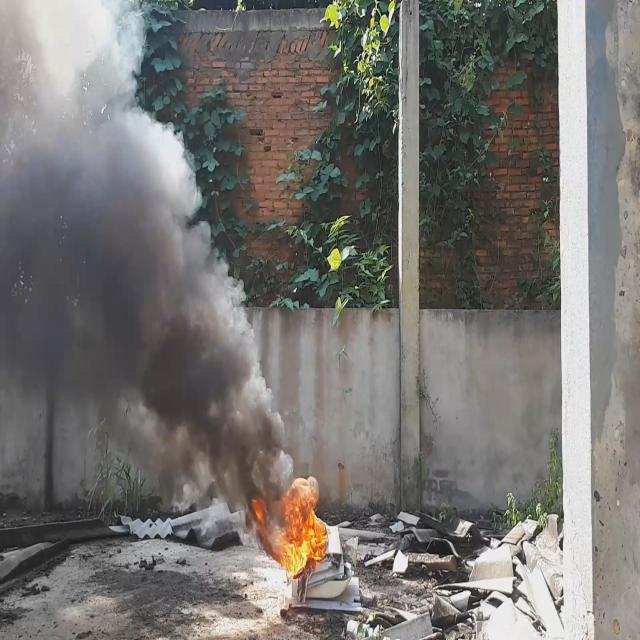Fire: (282, 470, 329, 584)
Smoke: (0, 0, 294, 541)
